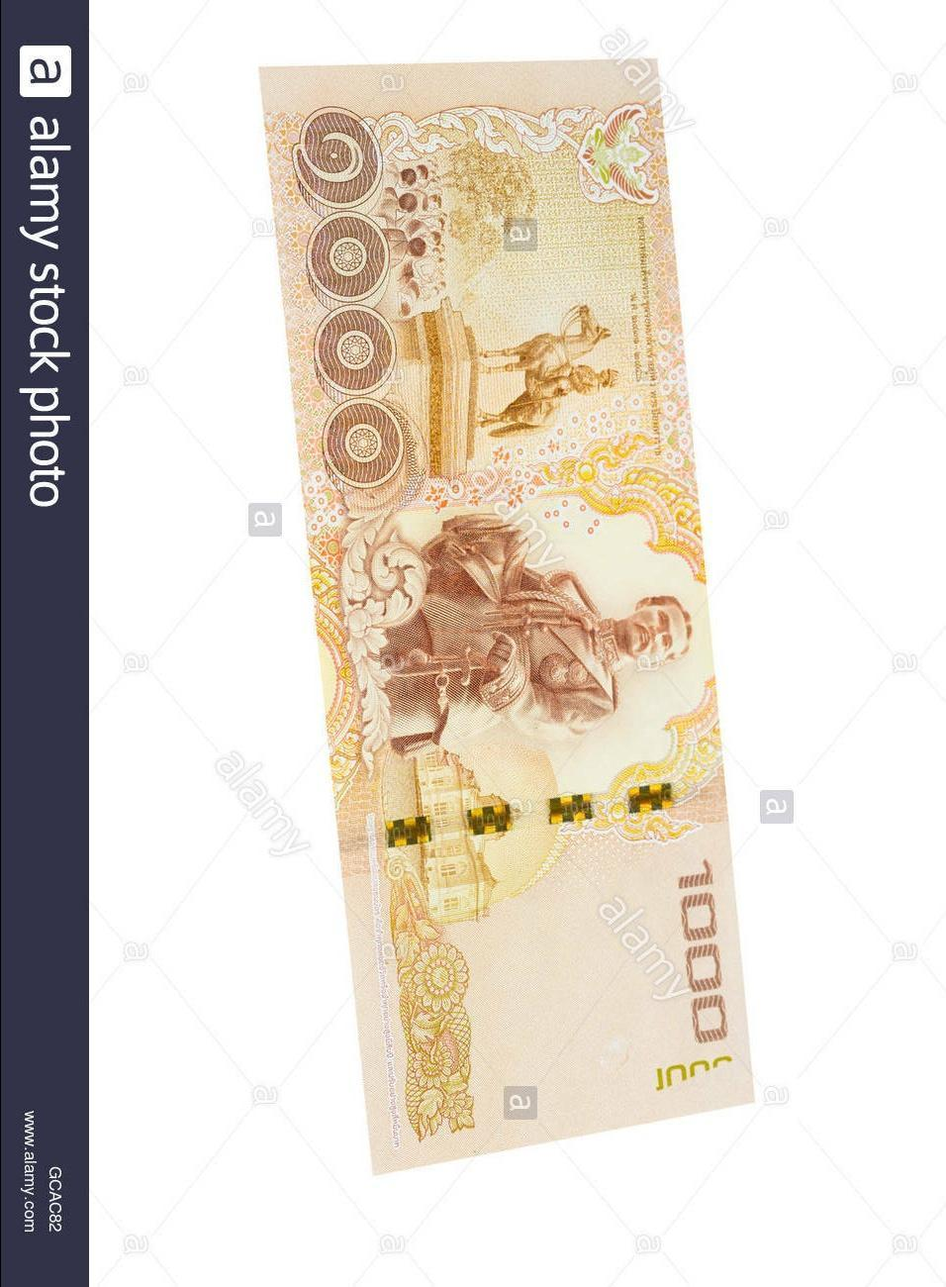1000BahtTai: (257, 63, 757, 1168)
